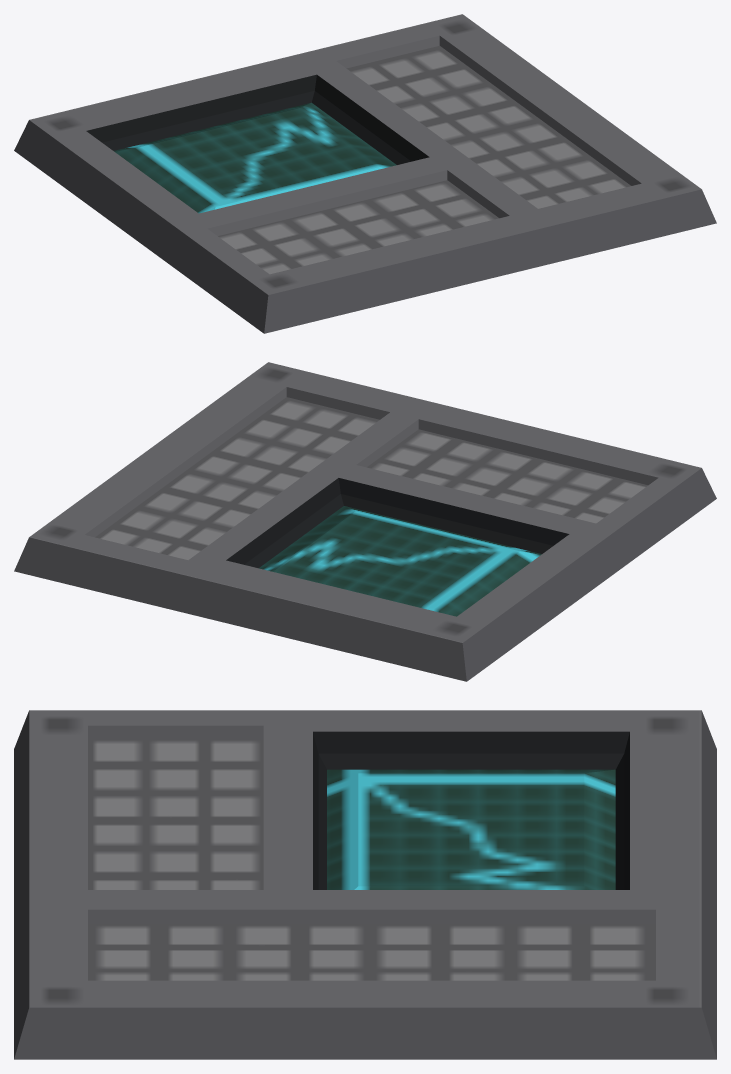
File: SM_Prop_Screen_01.glb
3 views of the same model, one above another, from view 1: azimuth 30°, elevation 25°; view 2: azimuth 150°, elevation 25°; view 3: azimuth 270°, elevation 25° (orthographic). The views are drawn at different scales.
Parts seen in each view (by area): view 1: SM_Prop_Screen_01; view 2: SM_Prop_Screen_01; view 3: SM_Prop_Screen_01.
Boxes of the visible parts, <box> form: SM_Prop_Screen_01: <box>14,14,716,333</box>; SM_Prop_Screen_01: <box>14,362,716,681</box>; SM_Prop_Screen_01: <box>14,710,716,1059</box>.
Size of the model in its own units: 0.4142 by 0.0284 by 0.3963.
1 material, 1 textured.
